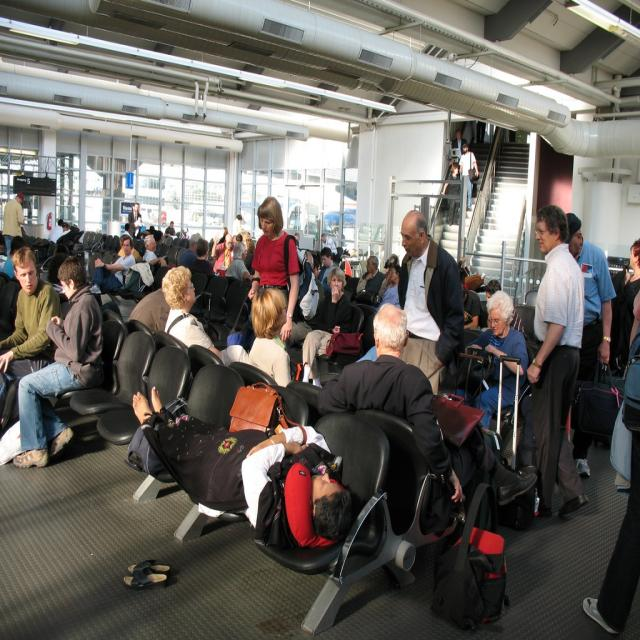body: (315, 301, 538, 535), (129, 378, 356, 552), (524, 202, 590, 522), (11, 252, 106, 470), (563, 211, 616, 480), (396, 207, 466, 396), (451, 288, 530, 432), (607, 285, 639, 637), (0, 243, 63, 402), (161, 264, 250, 368), (246, 196, 302, 344), (302, 266, 352, 391), (245, 286, 293, 389), (609, 238, 640, 378), (277, 257, 320, 351), (88, 234, 137, 296), (483, 278, 529, 342), (456, 256, 483, 355), (205, 225, 256, 275), (580, 565, 608, 637), (0, 266, 24, 350), (352, 254, 387, 306), (373, 263, 408, 315), (188, 236, 218, 292), (1, 191, 25, 259), (457, 142, 480, 212), (439, 164, 462, 228), (473, 118, 519, 148), (224, 242, 254, 283), (2, 234, 28, 280), (286, 210, 324, 240), (311, 253, 327, 324), (211, 232, 235, 278), (317, 246, 339, 294), (142, 232, 169, 268), (178, 232, 203, 270), (117, 236, 147, 264), (334, 243, 353, 280), (382, 250, 402, 285), (128, 202, 143, 240), (452, 128, 468, 160), (142, 223, 163, 246), (46, 218, 64, 242), (320, 232, 338, 256), (230, 212, 246, 238), (331, 221, 349, 243), (132, 215, 145, 238), (164, 220, 178, 238), (122, 222, 134, 241), (60, 221, 72, 235), (293, 231, 301, 248)
